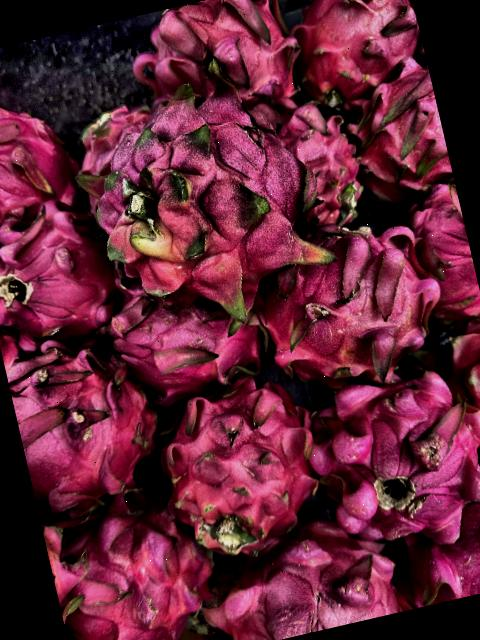buah-naga-belum-matang: (79, 57, 339, 316)
buah-naga-matang: (291, 340, 480, 553), (249, 200, 448, 392), (140, 357, 328, 559), (193, 501, 431, 640), (0, 320, 170, 508), (38, 478, 226, 640), (91, 252, 264, 398), (117, 0, 300, 128), (0, 200, 126, 340), (344, 55, 456, 206), (272, 85, 381, 236), (277, 0, 427, 94), (386, 467, 480, 609), (0, 78, 85, 235), (406, 180, 480, 319), (439, 316, 480, 477)
